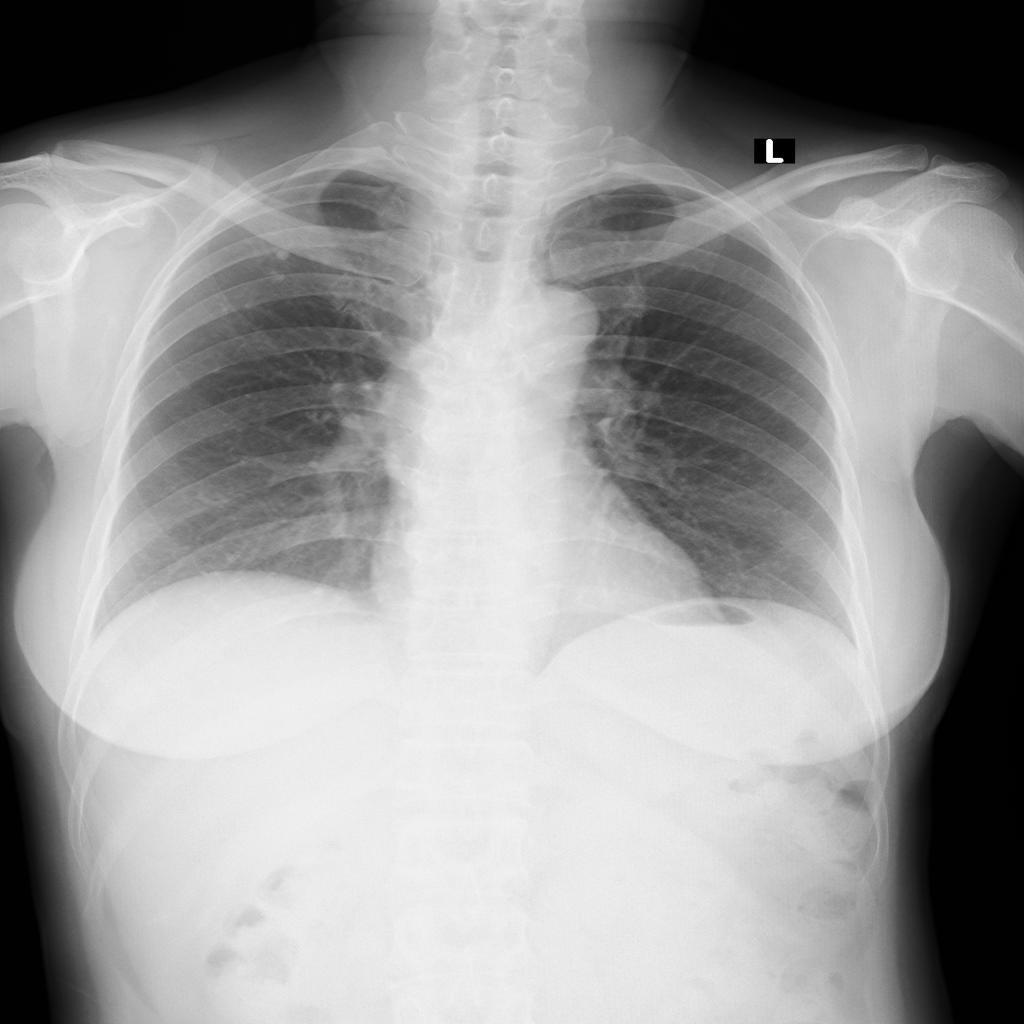Nodule: (257, 249, 297, 287)
